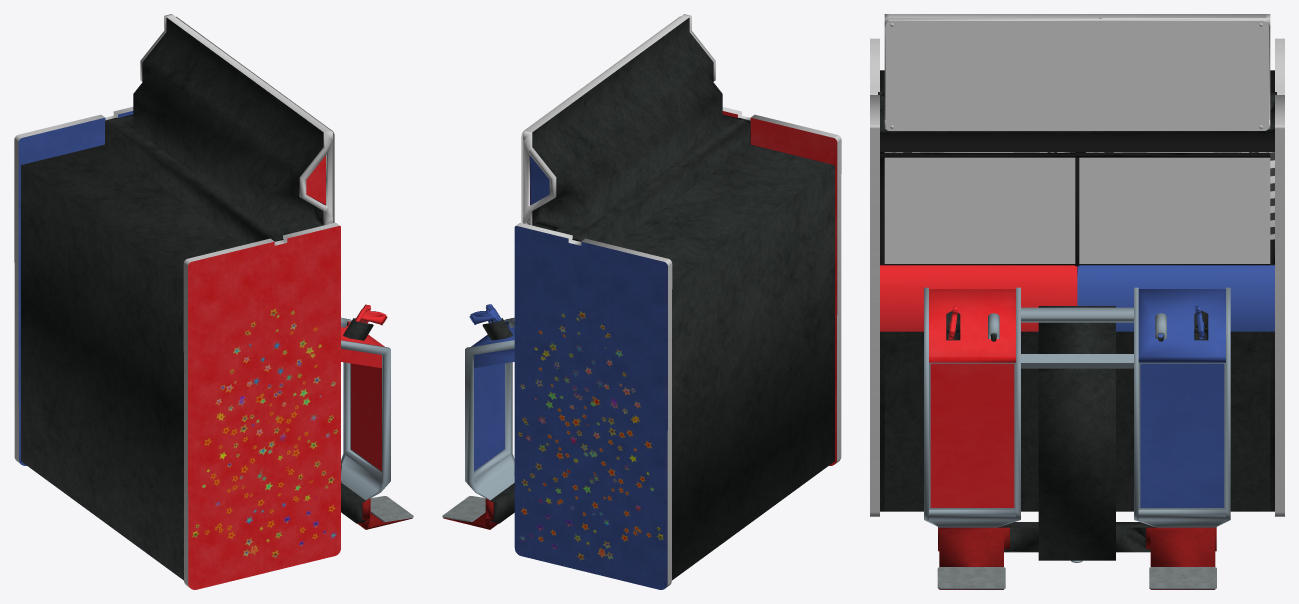
File: LightGunArcadeObject.fbx
3 renders of one model, left to right at view 1: azimuth 30°, elevation 25°; view 2: azimuth 150°, elevation 25°; view 3: azimuth 270°, elevation 25°, orthographic. The views are drawn at different scales.
Parts seen in each view (by area): view 1: Cube.007, Cube.013, Cube.003, Cube.011, Cube.009, Cube.004, Cube.005; view 2: Cube.007, Cube.013, Cube.003, Cube.004, Cube.009, Cube.011, Cube.005; view 3: Cube.001, Cube.007, Cube.004, Cube.011, Cube.009, Cube.003, Cube.012, Cube.010, Cube.005, Cube.
Part boxes in pixels (x1,y1,x2,y2): Cube.007: (21, 17, 373, 580); Cube.013: (188, 225, 340, 589); Cube.003: (14, 14, 339, 587); Cube.011: (306, 155, 384, 471); Cube.009: (341, 317, 413, 522); Cube.004: (18, 111, 133, 465); Cube.005: (370, 496, 413, 520); Cube.007: (482, 17, 834, 580); Cube.013: (514, 226, 667, 589); Cube.003: (516, 14, 841, 587); Cube.004: (471, 155, 549, 471); Cube.009: (442, 317, 514, 521); Cube.011: (722, 111, 837, 465); Cube.005: (442, 496, 486, 520); Cube.001: (884, 21, 1270, 263); Cube.007: (878, 18, 1276, 560); Cube.004: (1077, 265, 1274, 507); Cube.011: (880, 265, 1077, 507); Cube.009: (924, 287, 1230, 589); Cube.003: (870, 14, 1284, 516); Cube.012: (880, 134, 1274, 266); Cube.010: (938, 527, 1216, 589); Cube.005: (937, 567, 1216, 587); Cube: (884, 152, 1274, 239).
Size of the model in its own units: 5451 by 8750 by 6427.
